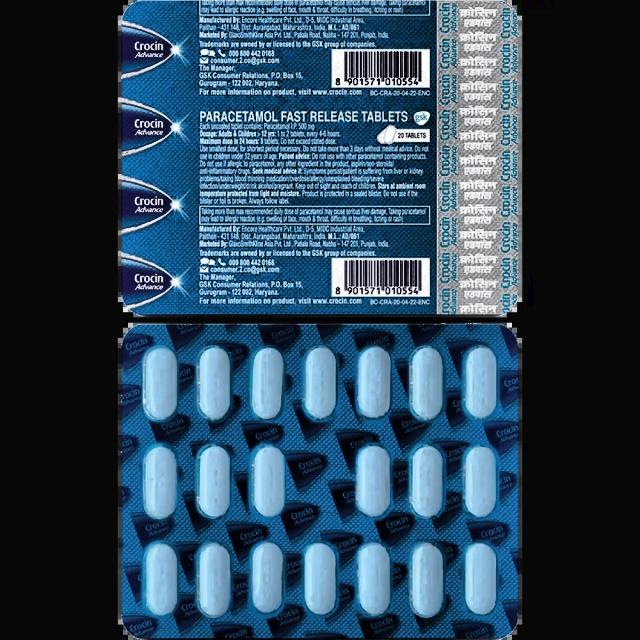Crocin: (117, 2, 200, 310)
